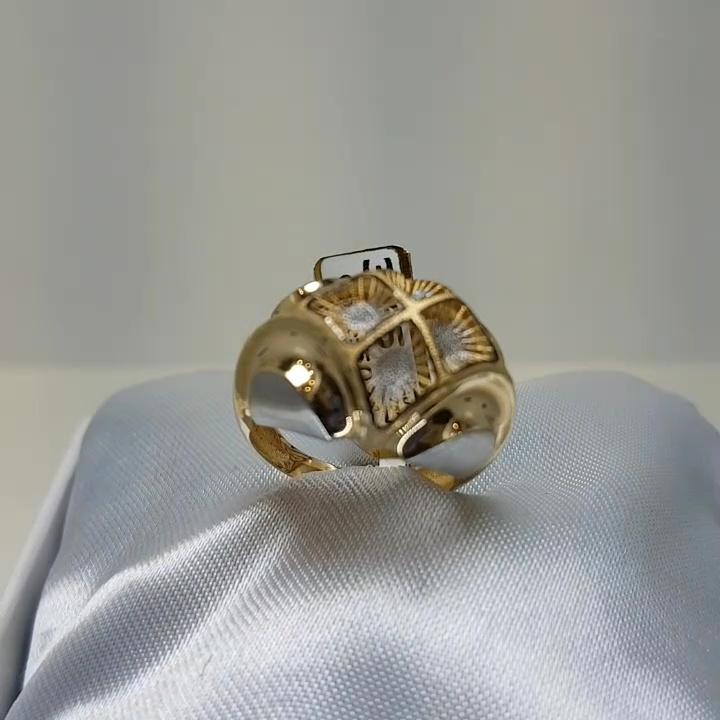Ring 2: (216, 244, 535, 511)
